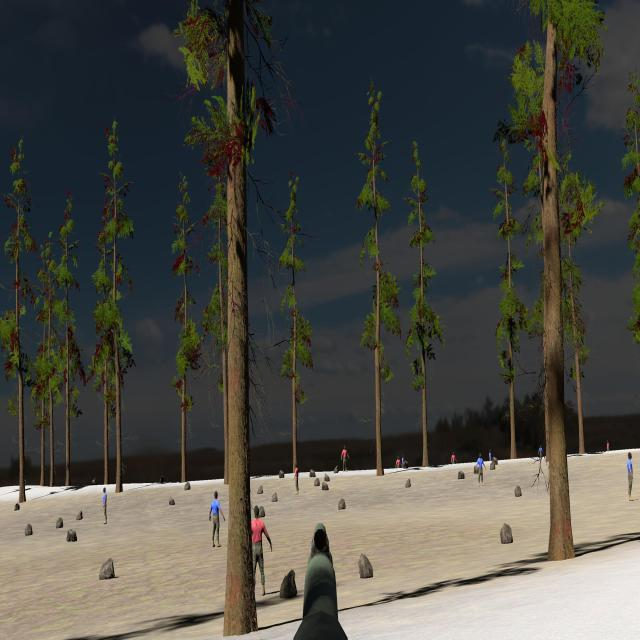Human: (246, 505, 272, 597), (209, 490, 225, 548)
